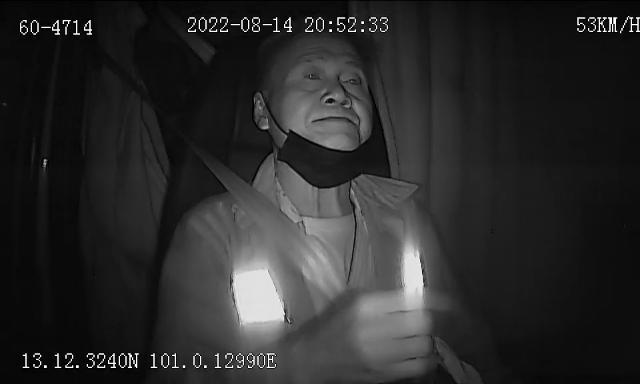SafeDriving: (337, 66, 368, 90)
Seatbelt: (194, 149, 356, 309)
